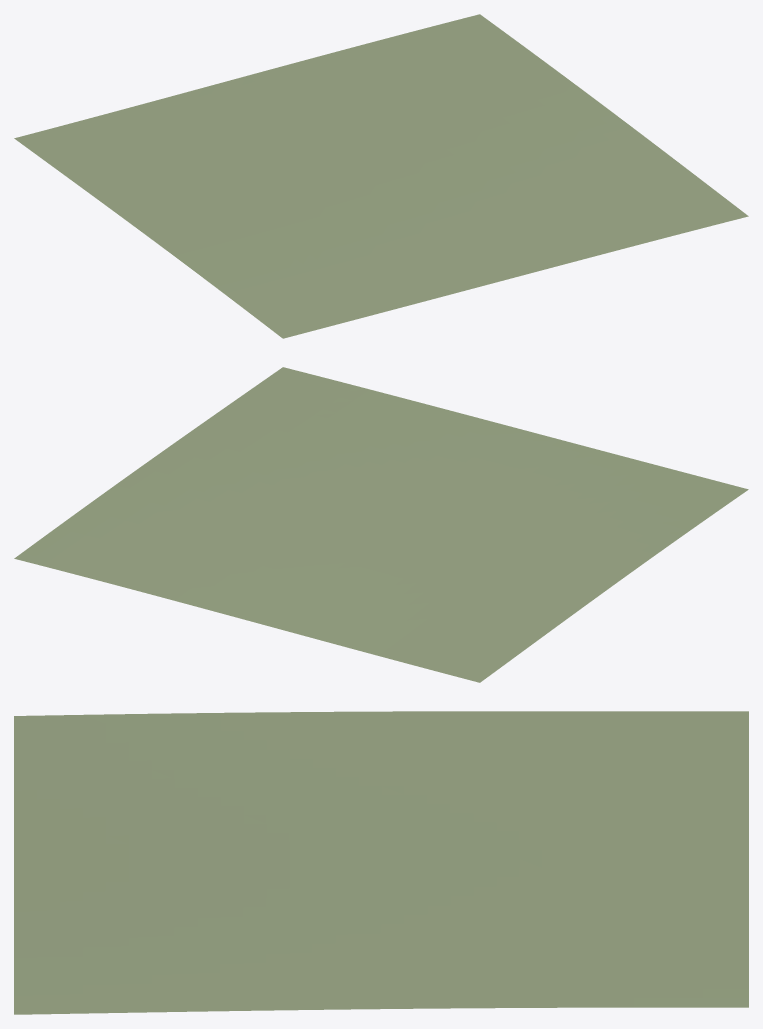
Rendered from expanse-29-9.glb.
The picture shows the model from 3 angles, top to bottom: view 1: azimuth 30°, elevation 25°; view 2: azimuth 150°, elevation 25°; view 3: azimuth 270°, elevation 25°; orthographic projection. The views are drawn at different scales.
Visible parts, largest first — view 1: expanse-29-9; view 2: expanse-29-9; view 3: expanse-29-9.
Part boxes in pixels (x1,y1,x2,y2): expanse-29-9: (14, 14, 748, 338); expanse-29-9: (14, 367, 748, 682); expanse-29-9: (14, 711, 748, 1014).
Size of the model in its own units: 256 by 7.35 by 256.
